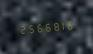eight: (49, 19, 56, 33)
five: (25, 21, 32, 35)
one: (57, 19, 64, 32)
six: (33, 21, 40, 34), (41, 20, 48, 33), (65, 18, 72, 31)
two: (17, 22, 24, 35)
